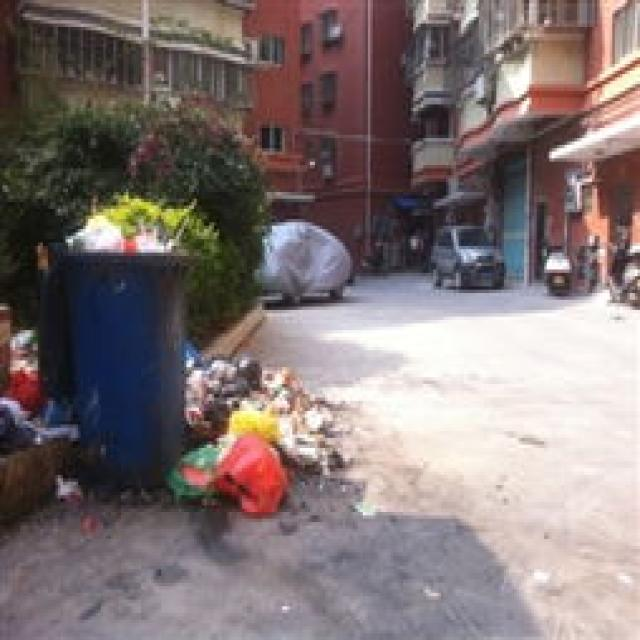garbage: (164, 337, 350, 515), (0, 303, 78, 441)
overflow: (35, 189, 217, 485)
